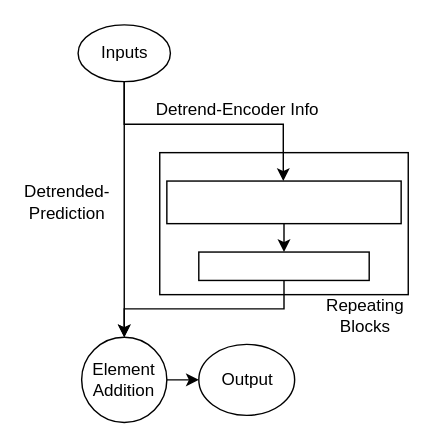
Image size: 433x447. Some labels were removed from this diagram. Here are the shapes that lost their labels. From the top down, the centre of each, then its label:
point (283, 202): Transposed Conv1D,tanh
point (283, 265): Batch Normalization
